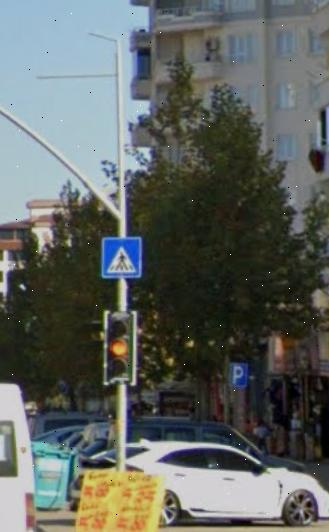yellowlight: (107, 311, 131, 381)
